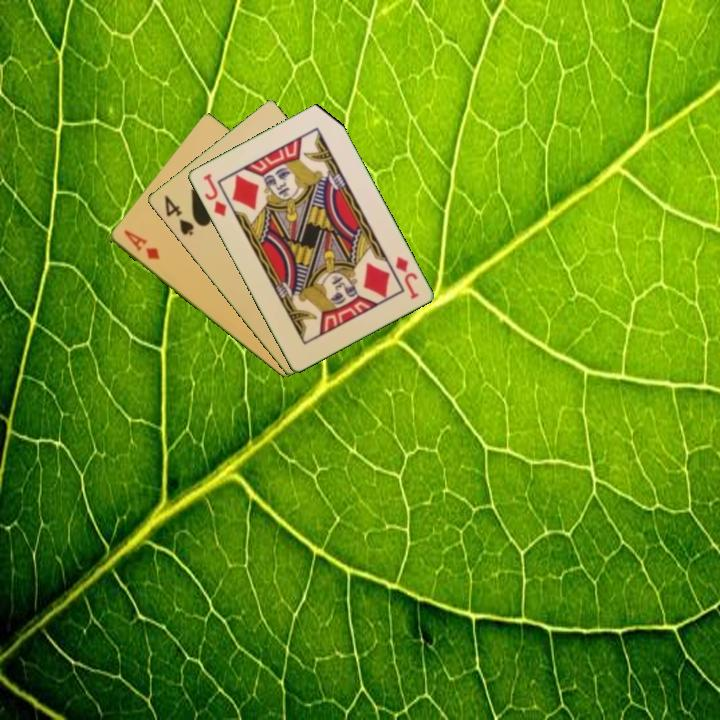4s: (160, 192, 196, 239)
Ad: (120, 226, 162, 263)
Jd: (199, 170, 229, 219), (392, 253, 421, 302)
